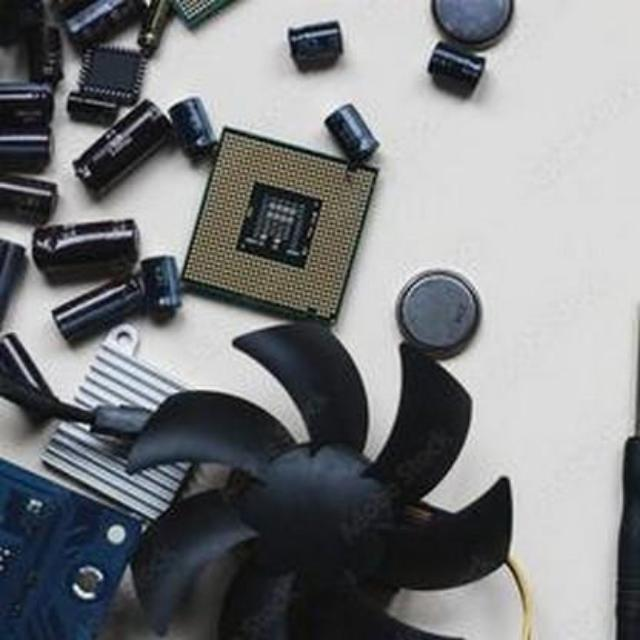CPU: (190, 119, 370, 328)
